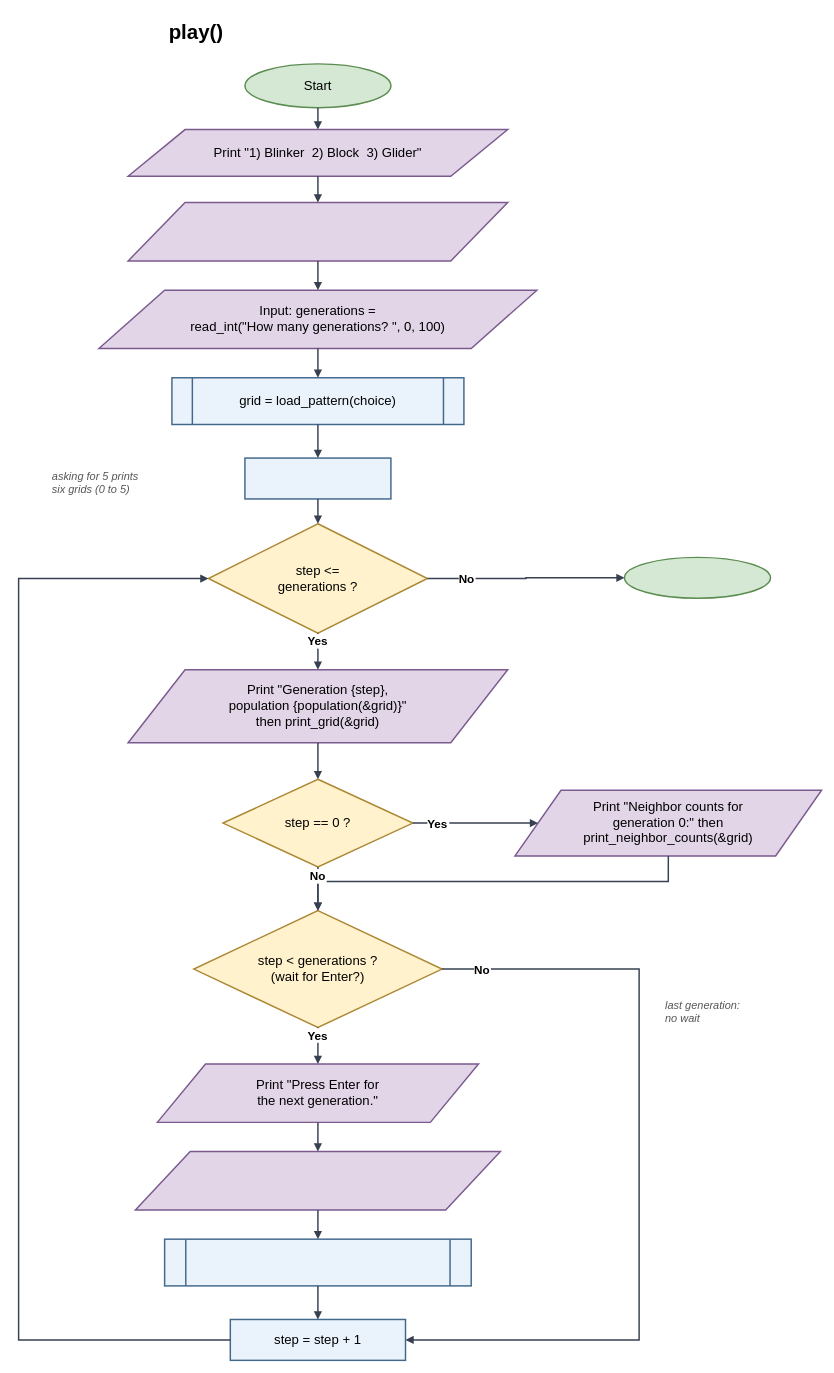
This 834x1373 diagram has some shape labels left out. The centre of each missing label's shape, as x and y in pixels:
End: (x=697, y=577)
grid = next_generation(&grid): (x=318, y=1262)
Input: choice = read_int("Which pattern? ", 1, 3): (x=317, y=231)
Input: line = String::new(); stdin().read_line(&mut line): (x=317, y=1180)
step = 0: (x=317, y=478)
